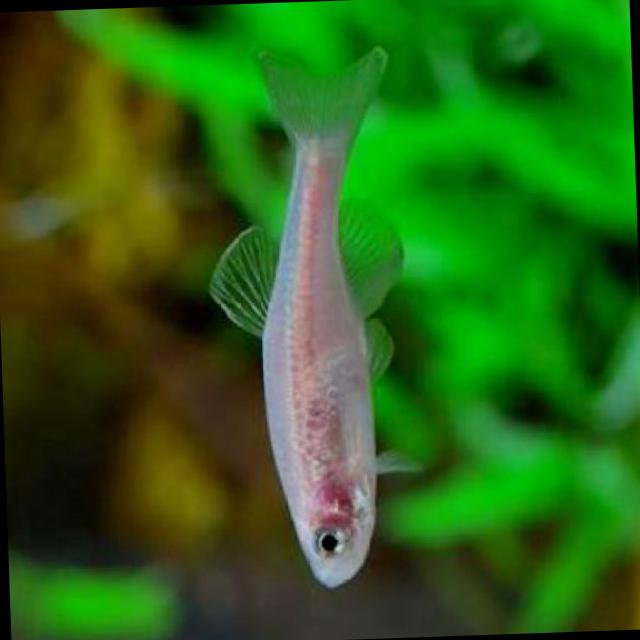ZebraFish: (192, 41, 408, 591)
